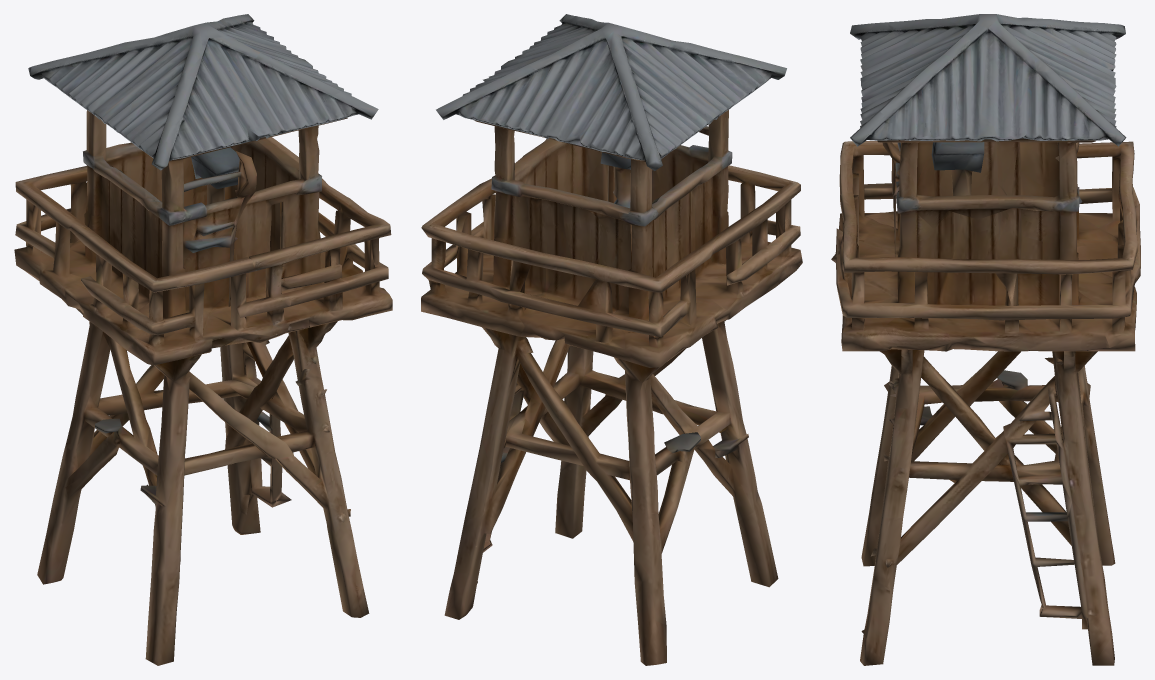
Rendered from watchtower.glb.
3 renders of one model, left to right at view 1: azimuth 30°, elevation 25°; view 2: azimuth 150°, elevation 25°; view 3: azimuth 270°, elevation 25°, orthographic. The views are drawn at different scales.
Parts seen in each view (by area): view 1: tripo_node_4cc4faa5-ac38-4c9d-a6fb-b34337bc4868; view 2: tripo_node_4cc4faa5-ac38-4c9d-a6fb-b34337bc4868; view 3: tripo_node_4cc4faa5-ac38-4c9d-a6fb-b34337bc4868.
Boxes of the visible parts, x1,y1,x2,y2 form: tripo_node_4cc4faa5-ac38-4c9d-a6fb-b34337bc4868: (14,14,392,665); tripo_node_4cc4faa5-ac38-4c9d-a6fb-b34337bc4868: (421,14,802,665); tripo_node_4cc4faa5-ac38-4c9d-a6fb-b34337bc4868: (831,14,1140,665).
Bounding box in the file's own units: 0.4583 × 1 × 0.4717.
Materials: 1 (1 with a texture image).
